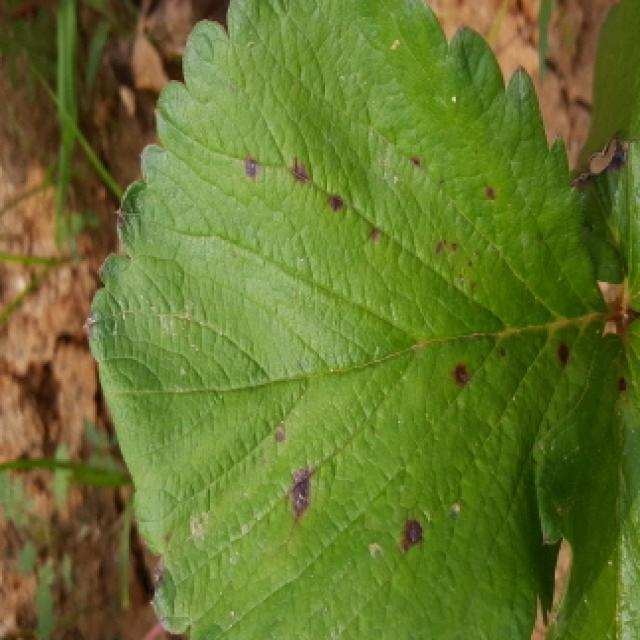Leaf Spot: (84, 0, 616, 640), (545, 314, 640, 640), (573, 0, 640, 311)
